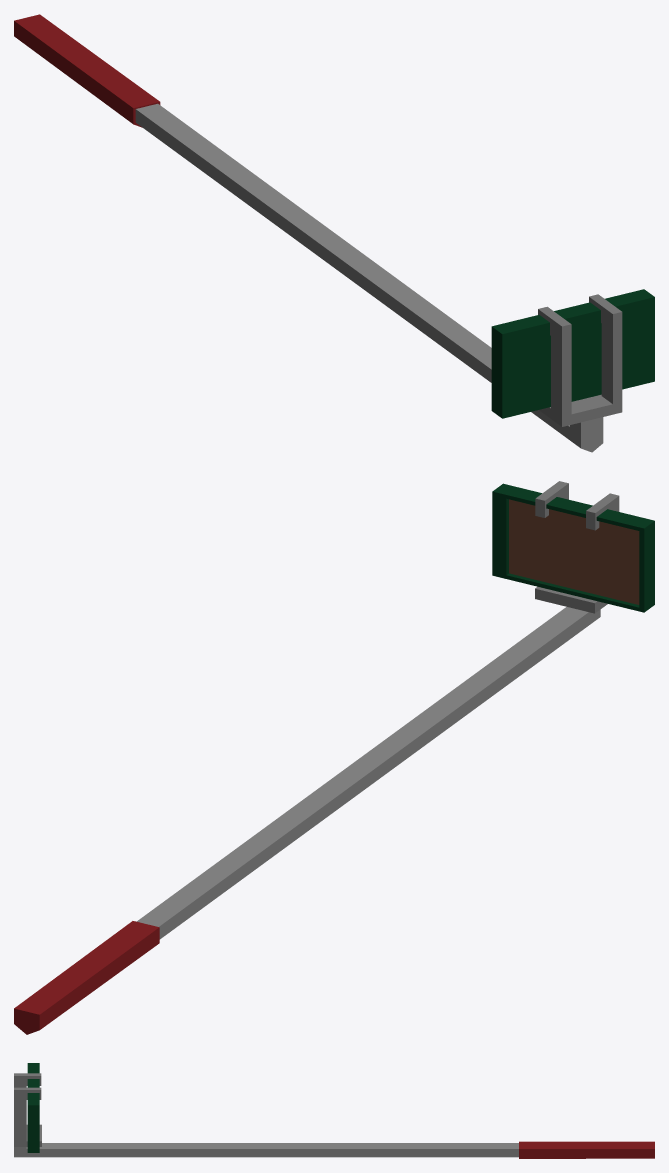
File: TouristGirl_SelfieStick.fbx
The picture shows the model from 3 angles, top to bottom: view 1: azimuth 30°, elevation 25°; view 2: azimuth 150°, elevation 25°; view 3: azimuth 270°, elevation 25°; orthographic projection. The views are drawn at different scales.
Parts seen in each view (by area): view 1: TouristGirl_SelfieStick; view 2: TouristGirl_SelfieStick; view 3: TouristGirl_SelfieStick.
Part boxes in pixels (x1,y1,x2,y2): TouristGirl_SelfieStick: (14, 14, 654, 452); TouristGirl_SelfieStick: (14, 481, 654, 1034); TouristGirl_SelfieStick: (14, 1063, 654, 1158).
Bounding box in the file's own units: 17.19 × 14.65 × 110.
